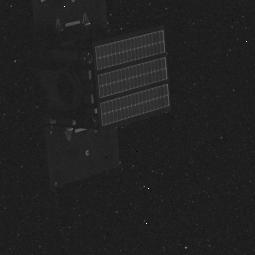proba_2: (20, 9, 169, 184)
